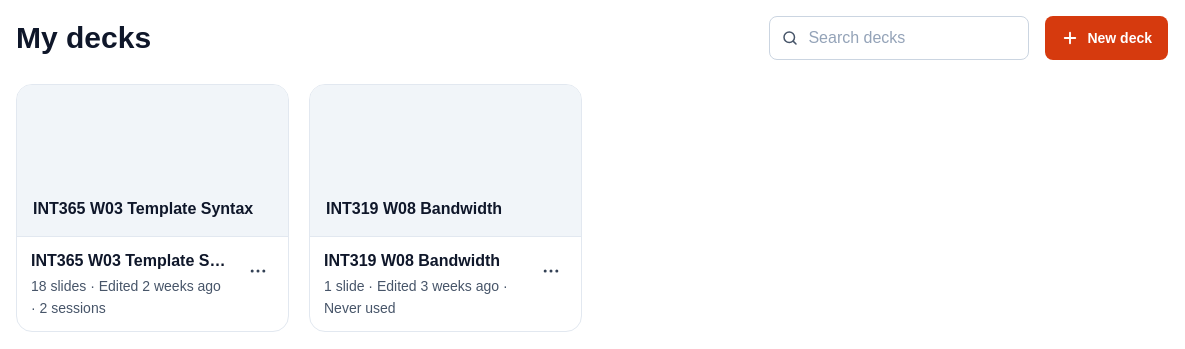
Scenario: DeckList › filters by title and says when nothing matches
Type "bandwidth" into the search field labelled "Search decks" at (899, 38), box [769,16,1029,60]
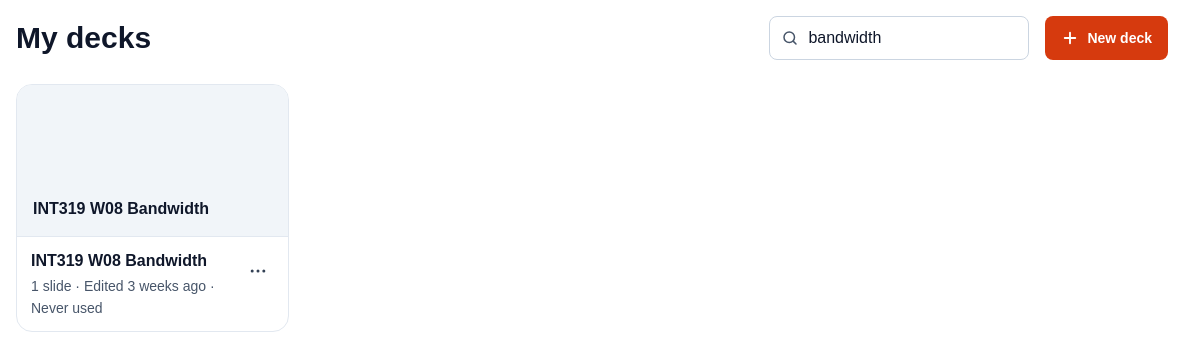
Expected: the link "INT319 W08 Bandwidth" is shown, [31,249,228,273]
Expected: the text "INT365 W03 Template Syntax" is gone
Replace the text in the search field named "Search decks" with "routing" at (899, 38), box [769,16,1029,60]
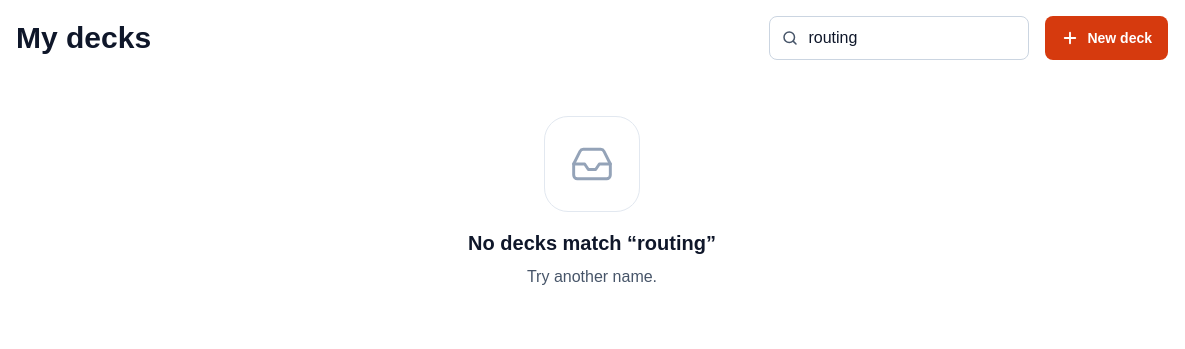
Expected: the heading "No decks match “routing”" is shown, [468,228,716,258]
